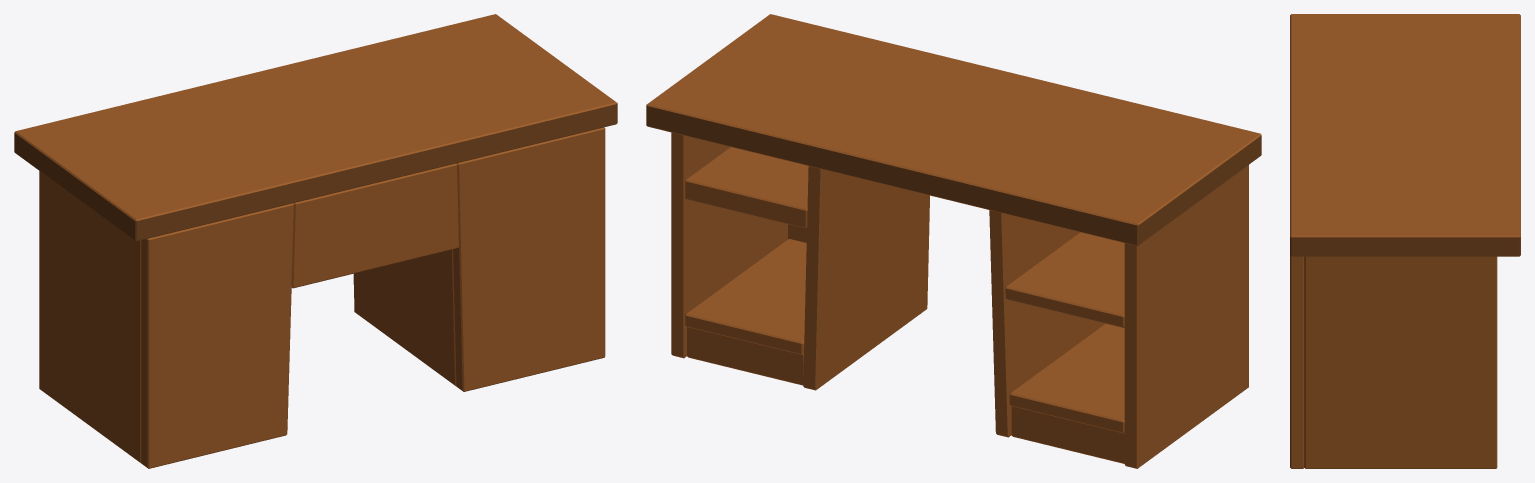
Rendered from Teacher_desk.fbx.
The picture shows the model from 3 angles, left to right: view 1: azimuth 30°, elevation 25°; view 2: azimuth 150°, elevation 25°; view 3: azimuth 270°, elevation 25°; orthographic projection. The views are drawn at different scales.
Visible parts, largest first — view 1: Teacher_desk; view 2: Teacher_desk; view 3: Teacher_desk.
Part boxes in pixels (<box>): Teacher_desk: <box>14,14,617,468</box>; Teacher_desk: <box>646,14,1261,468</box>; Teacher_desk: <box>1290,14,1520,468</box>.
Size of the model in its own units: 1.73 by 0.863 by 0.7552.
